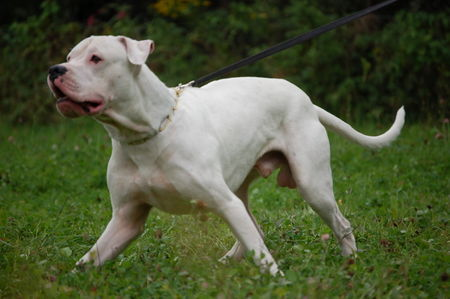dogo_argentino: (46, 35, 404, 278)
